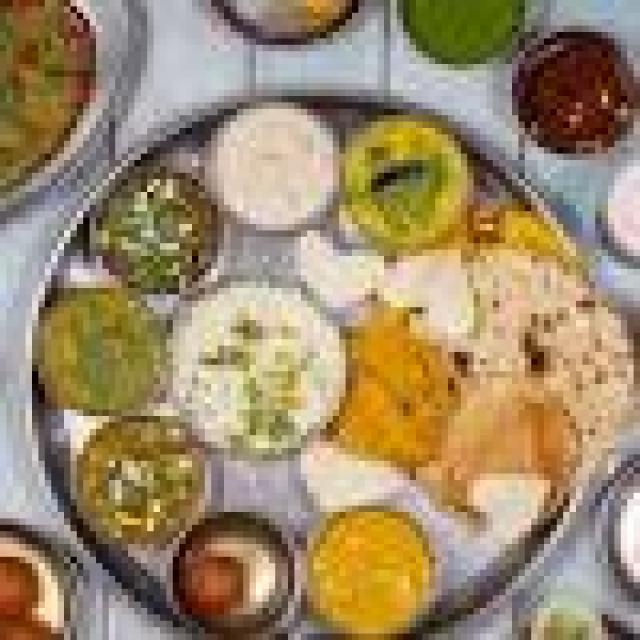dal: (177, 278, 343, 456), (198, 102, 342, 230), (307, 509, 440, 635)
pickle: (509, 30, 640, 153)
raita: (593, 142, 639, 270), (601, 462, 639, 607)
sweet: (2, 6, 103, 170), (167, 515, 294, 632), (2, 534, 73, 639)
veg-fry: (175, 275, 352, 457)
